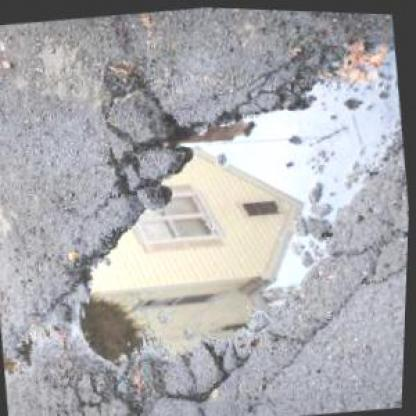pothole: (22, 22, 415, 415)
